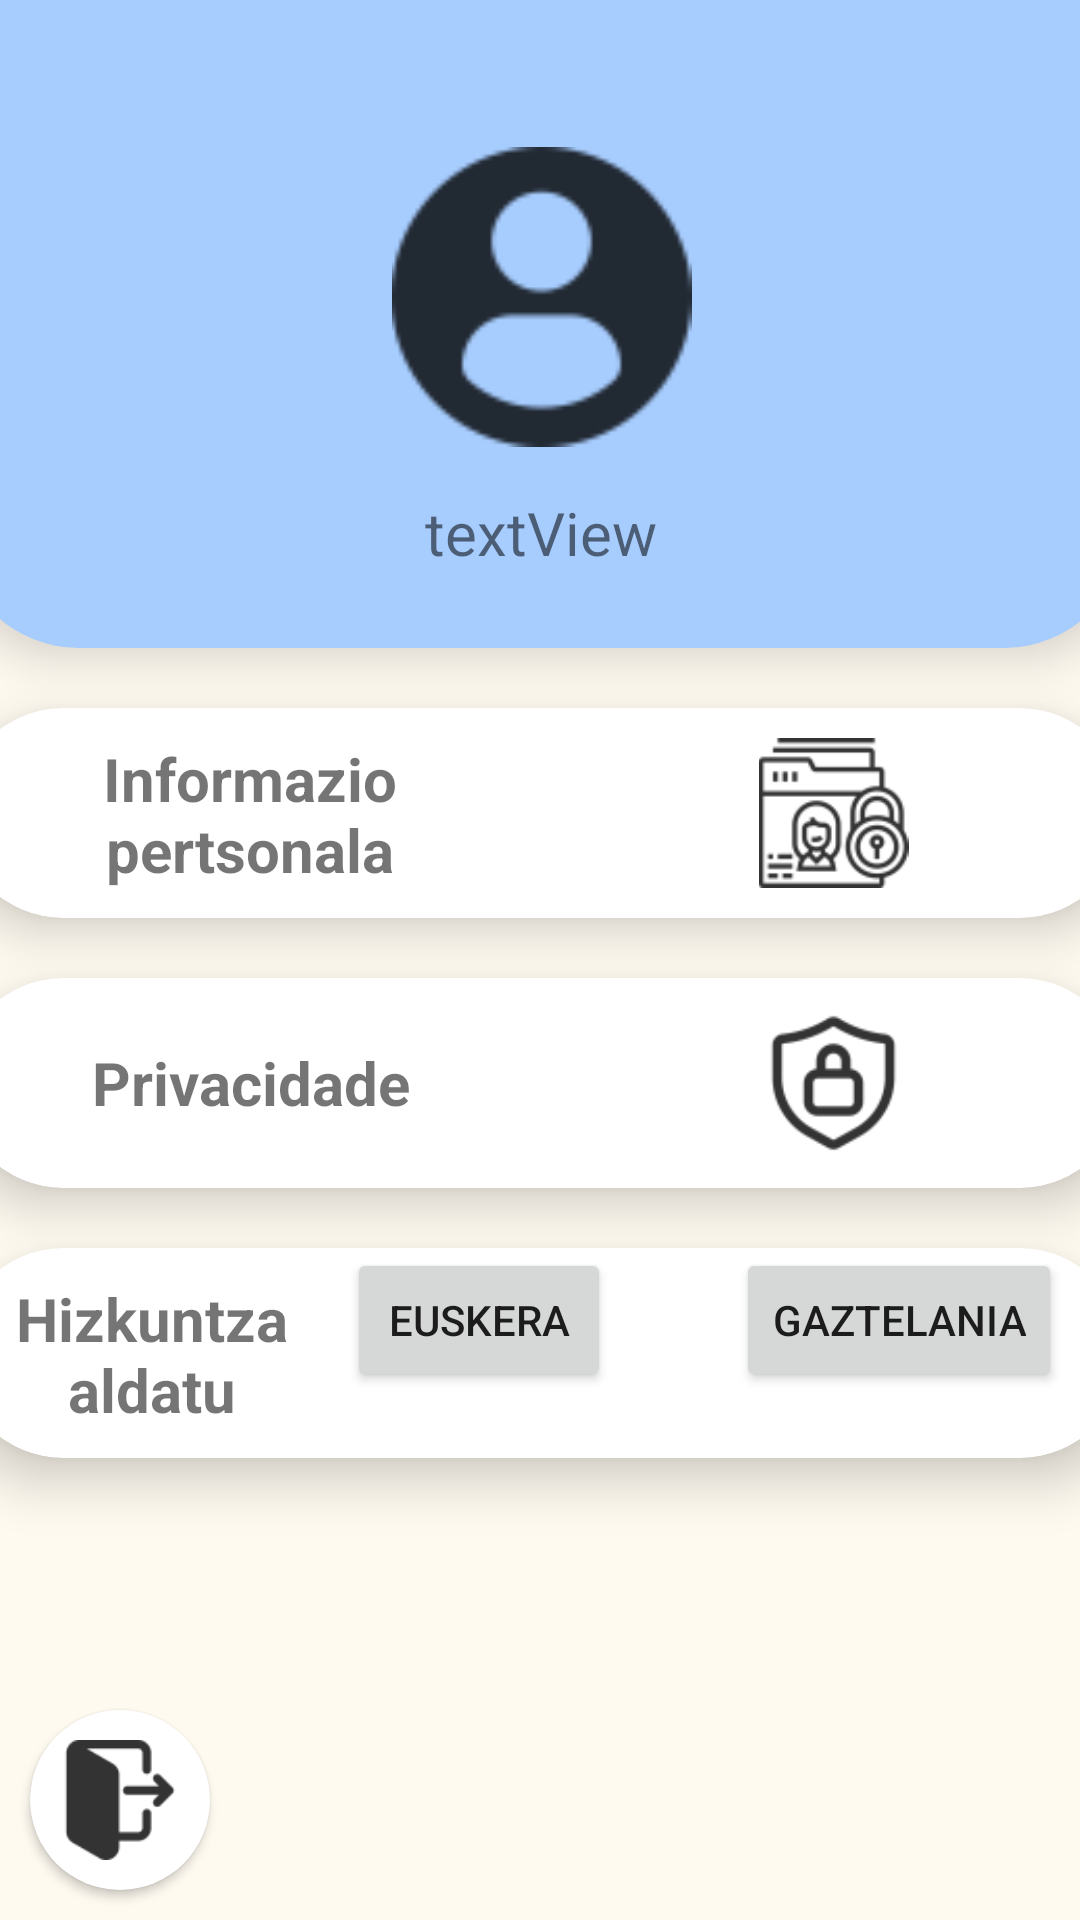

Point at icon controls on the screen. Image size 1080×1920, points as (x=x, y=y).
info personal: (x=834, y=813)
perfil: (x=542, y=297)
